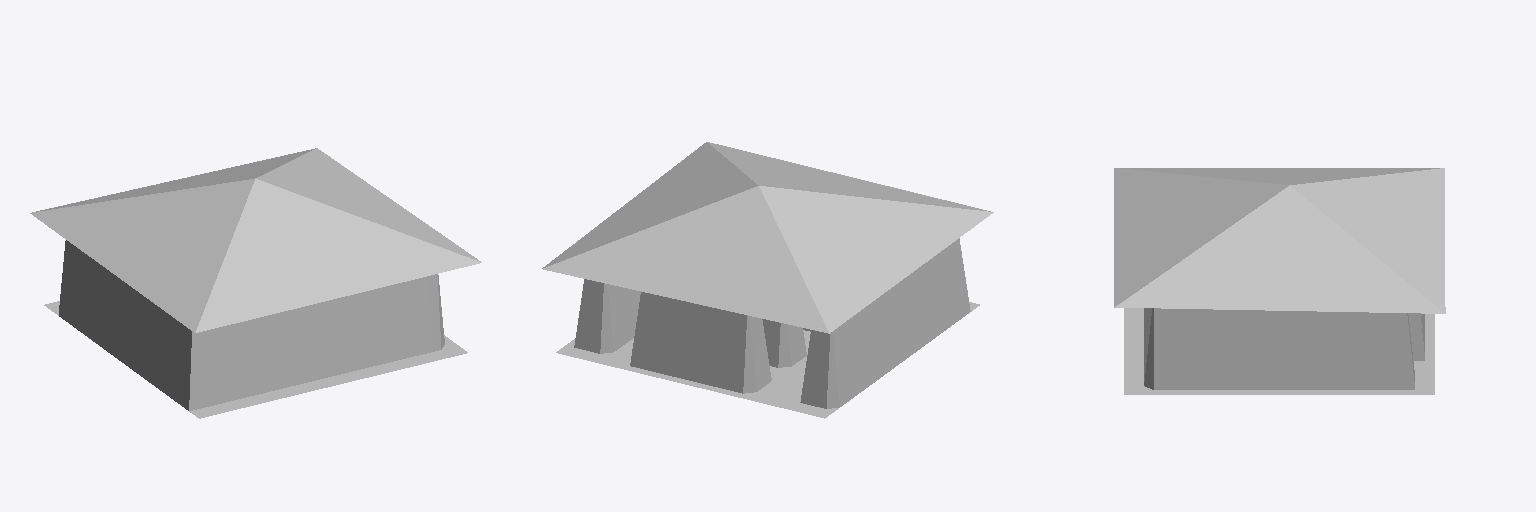
File: terrain1.obj
3 views of the same model, side by side, from view 1: azimuth 30°, elevation 25°; view 2: azimuth 150°, elevation 25°; view 3: azimuth 270°, elevation 25° (orthographic).
Visible parts, largest first — view 1: Pyramid01, terrain; view 2: Pyramid01, terrain; view 3: Pyramid01, terrain.
Part boxes in pixels (left/top/right/bottom): Pyramid01: left=30, top=148, right=481, bottom=332; terrain: left=44, top=240, right=467, bottom=418; Pyramid01: left=542, top=142, right=993, bottom=333; terrain: left=556, top=238, right=979, bottom=418; Pyramid01: left=1114, top=168, right=1445, bottom=313; terrain: left=1124, top=308, right=1434, bottom=394.
Bounding box in the file's own units: 662 × 320 × 659.